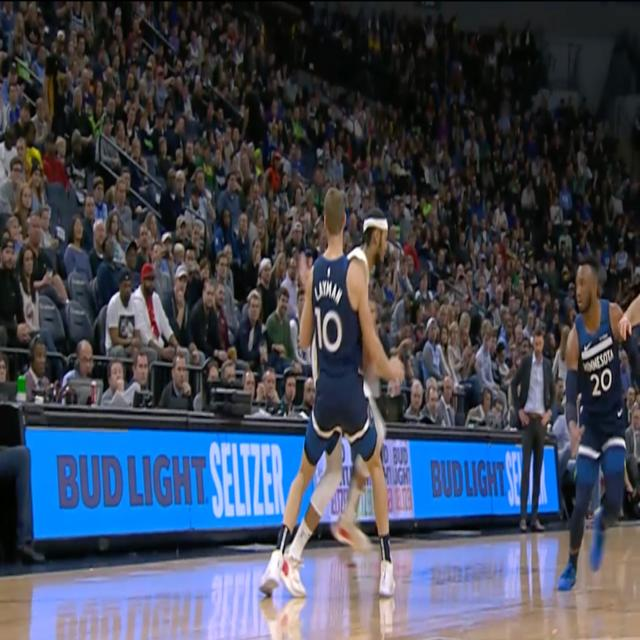Foul: (299, 188, 425, 616)
